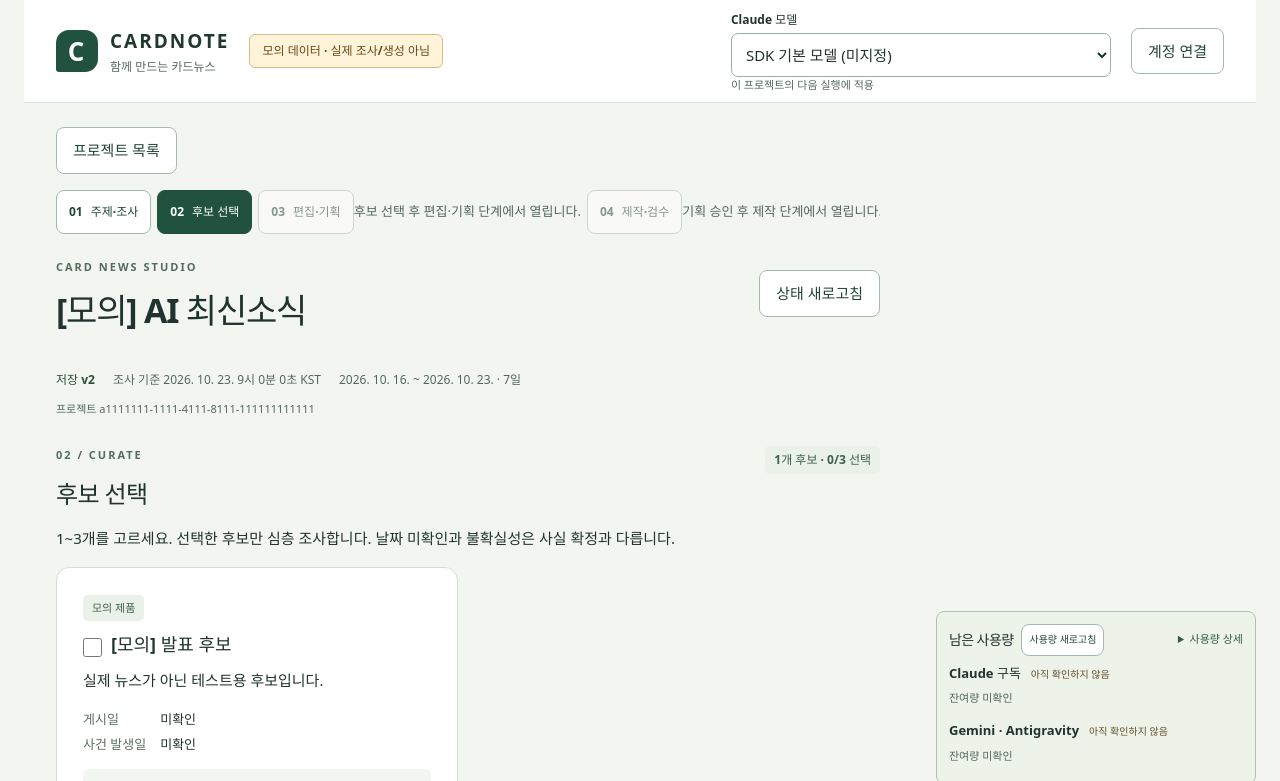
Test: 불명 요청은 모델 변경·이동을 막고 이유와 동일 요청 확인을 제시한다
The width and height of the screenshot is (1280, 781).
Expected: the heading "[모의] AI 최신소식" is shown, [56, 288, 306, 334]
Step 1. Click the button "01 주제·조사" → {"x": 104, "y": 212}, box [56, 190, 151, 234]
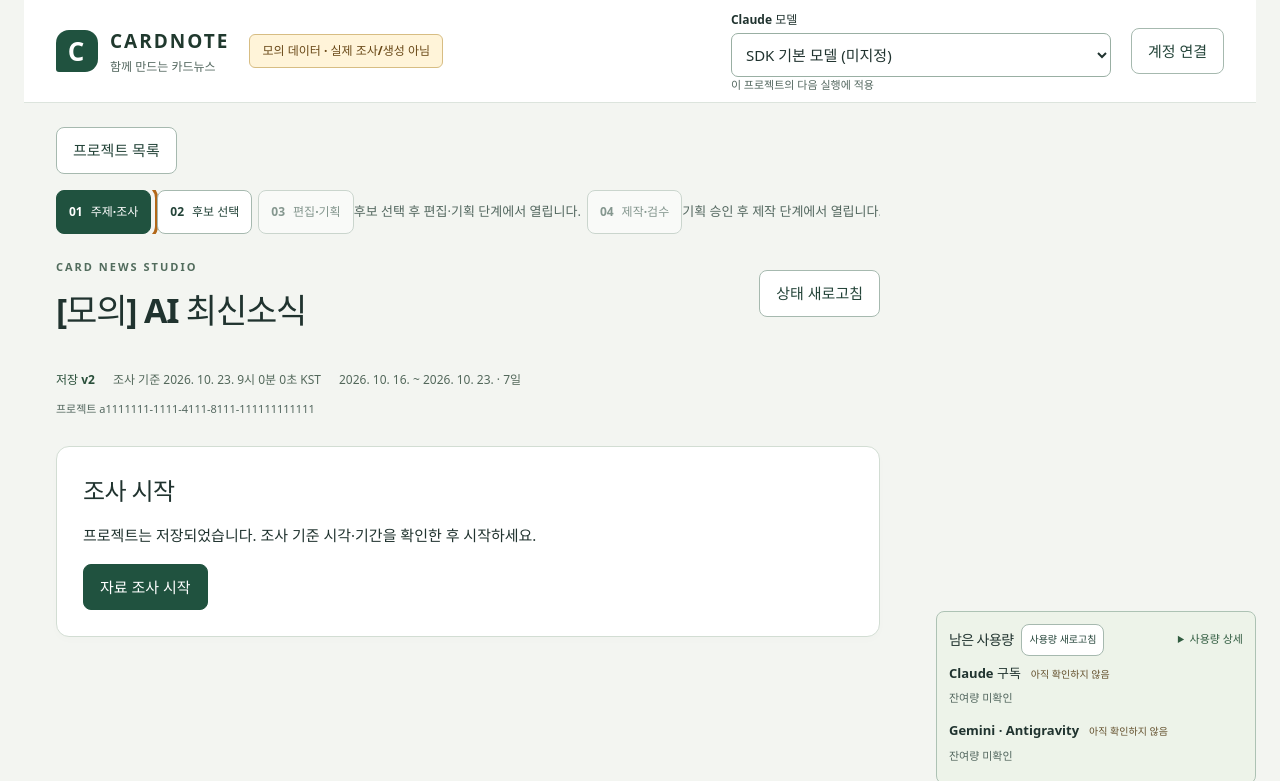
Step 2. Click the button "자료 조사 시작" → {"x": 145, "y": 587}, box [83, 564, 208, 610]
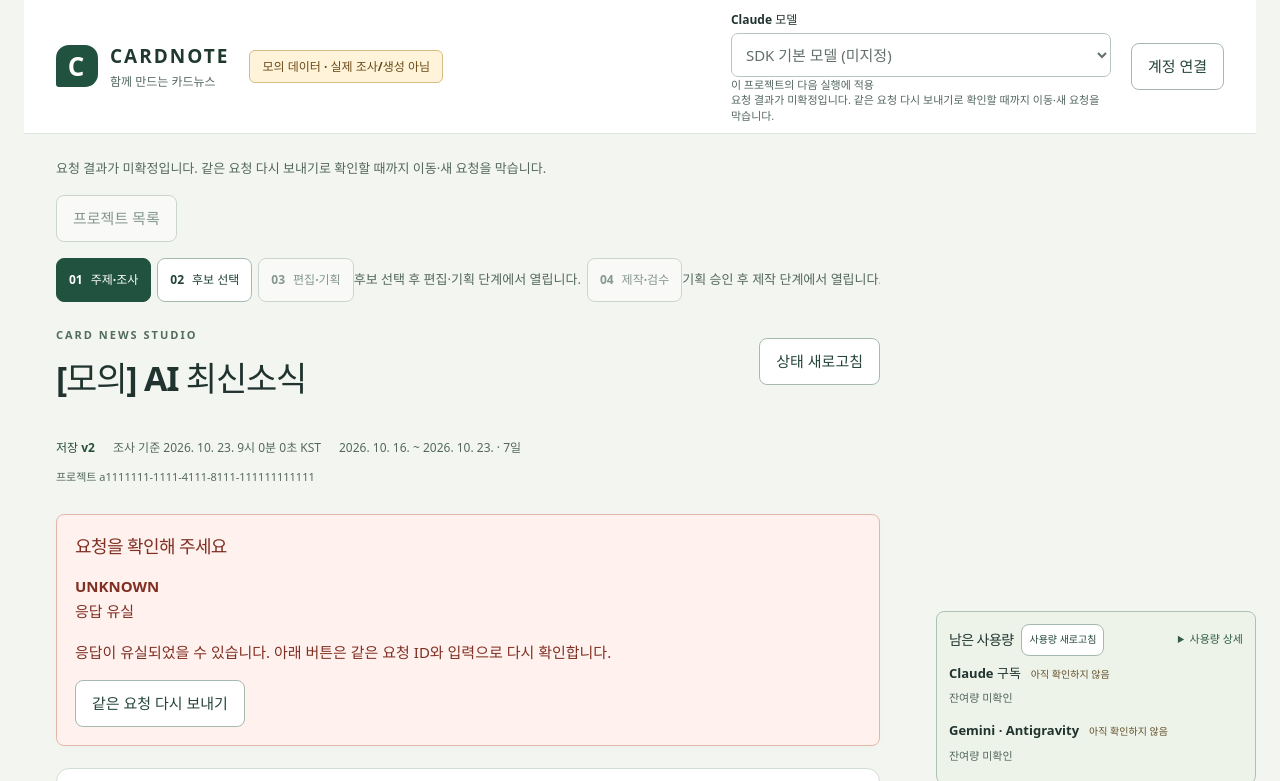
Now the button "프로젝트 목록" is disabled, box [56, 195, 177, 242]
Now the dropdown labelled "Claude 모델" is disabled, box [731, 33, 1111, 77]
Now the text "요청 결과가 미확정입니다. 같은 요청 다시 보내기로 확인할 때까지 이동·새 요청을 막습니다." is shown, box [731, 92, 1111, 123]
